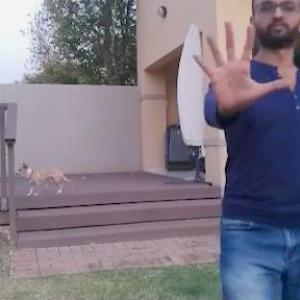follow_hand: (188, 15, 292, 118)
